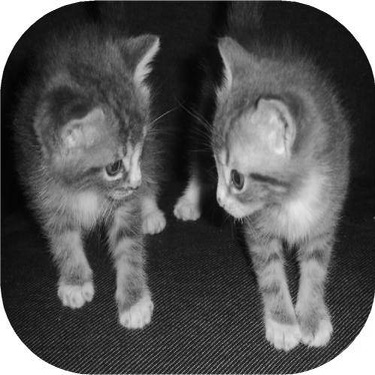cat: (169, 10, 350, 353), (12, 29, 165, 333)
